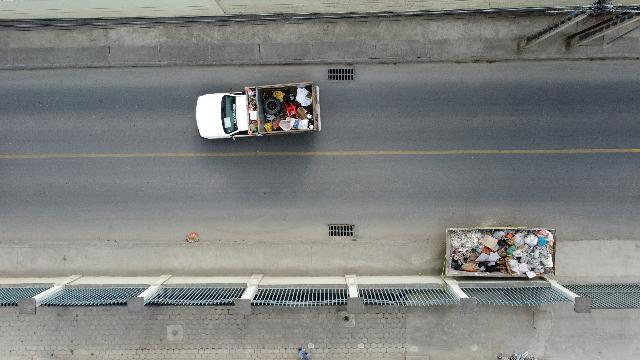Vehiculo: (196, 82, 320, 140)
